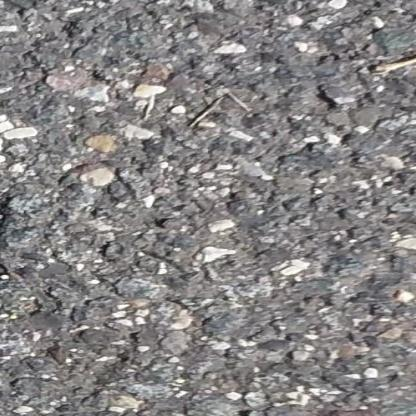Cracks: (0, 188, 17, 301)
